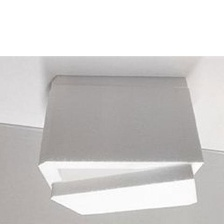foam_box: (32, 71, 209, 218)
